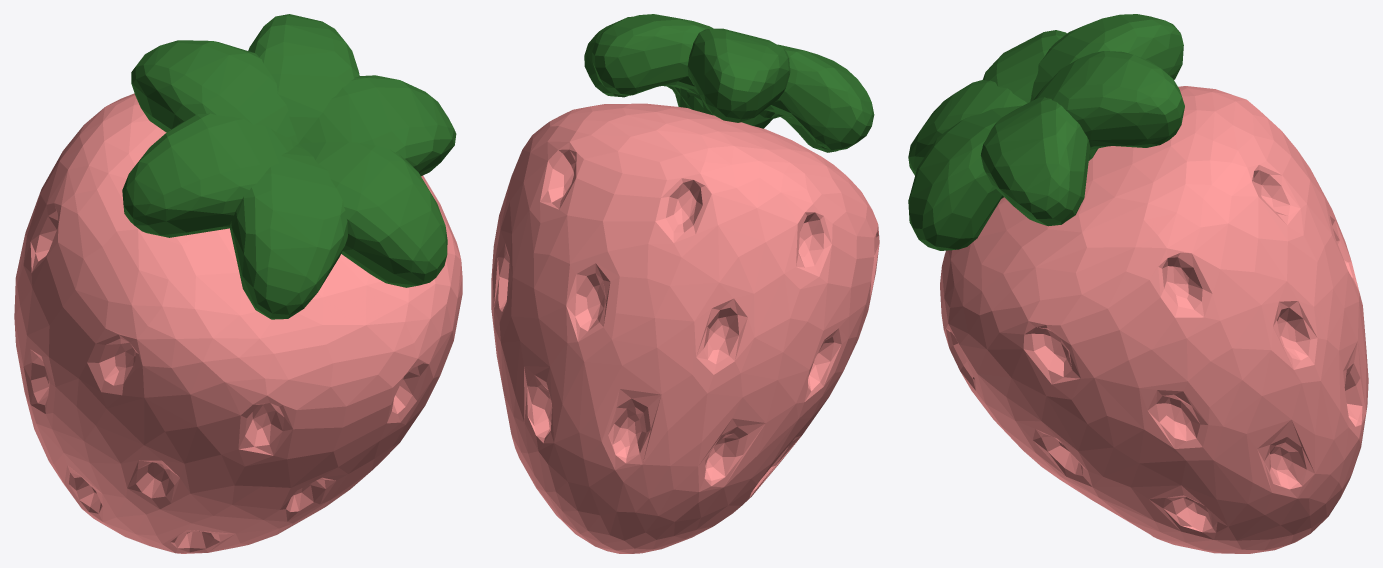
The model's file is topping_cheese.glb.
3 renders of one model, left to right at view 1: azimuth 30°, elevation 25°; view 2: azimuth 150°, elevation 25°; view 3: azimuth 270°, elevation 25°, orthographic. The views are drawn at different scales.
Visible parts, largest first — view 1: Plane.440; view 2: Plane.440; view 3: Plane.440.
Boxes of the visible parts, box(x1,y1,x2,y2) form: Plane.440: box(14, 14, 462, 553); Plane.440: box(491, 14, 879, 553); Plane.440: box(908, 14, 1368, 553).
Size of the model in its own units: 6.77 by 9.27 by 7.71.
